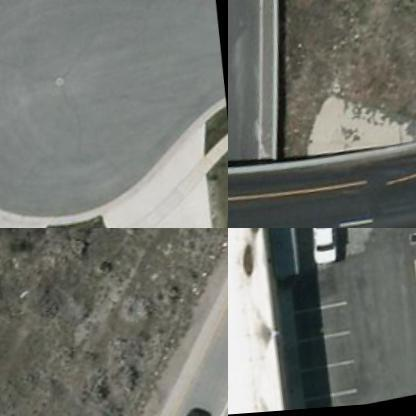car: (304, 228, 353, 273)
